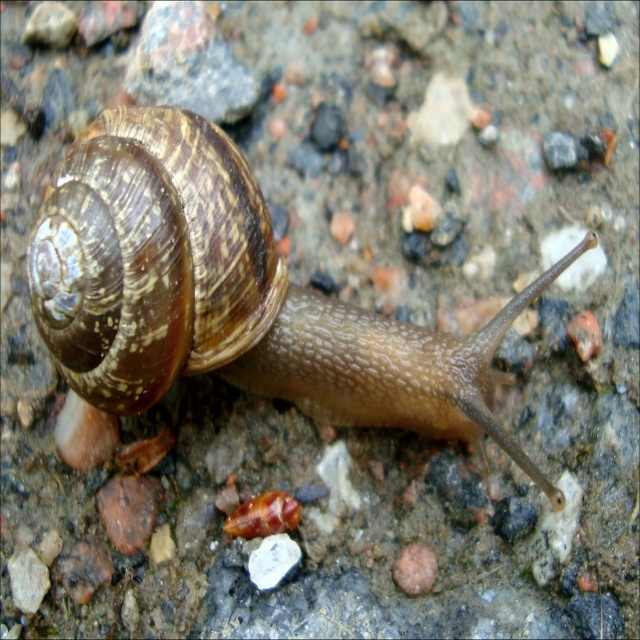Snail: (24, 101, 599, 515)
